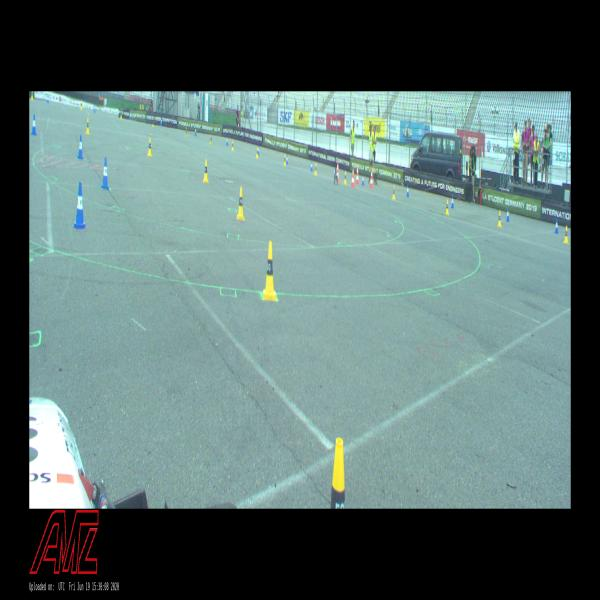blue_cone: (72, 182, 86, 228), (101, 157, 109, 189), (78, 135, 83, 158), (32, 114, 36, 134), (555, 218, 558, 233), (506, 208, 509, 221), (451, 196, 454, 208), (407, 186, 409, 196), (195, 126, 197, 136), (362, 174, 364, 184), (286, 154, 288, 164), (334, 166, 336, 176), (226, 137, 228, 145), (47, 96, 49, 102), (311, 160, 312, 171), (258, 146, 259, 155), (130, 112, 131, 120), (161, 118, 162, 126), (94, 105, 95, 112)
large_orange_cone: (370, 169, 373, 188), (337, 161, 339, 182), (356, 165, 358, 184), (352, 167, 354, 186)
yellow_cone: (331, 439, 345, 508), (263, 241, 276, 300), (237, 187, 244, 219), (204, 160, 208, 182), (148, 138, 152, 156), (564, 226, 568, 242), (86, 118, 89, 133), (498, 211, 501, 226), (392, 185, 395, 199), (314, 163, 317, 175), (446, 199, 448, 214), (344, 171, 346, 184), (284, 154, 286, 166), (256, 147, 258, 158), (232, 141, 234, 151), (210, 134, 212, 144), (31, 91, 33, 99), (185, 128, 187, 136), (81, 100, 82, 109), (121, 110, 122, 119), (153, 121, 154, 127)
